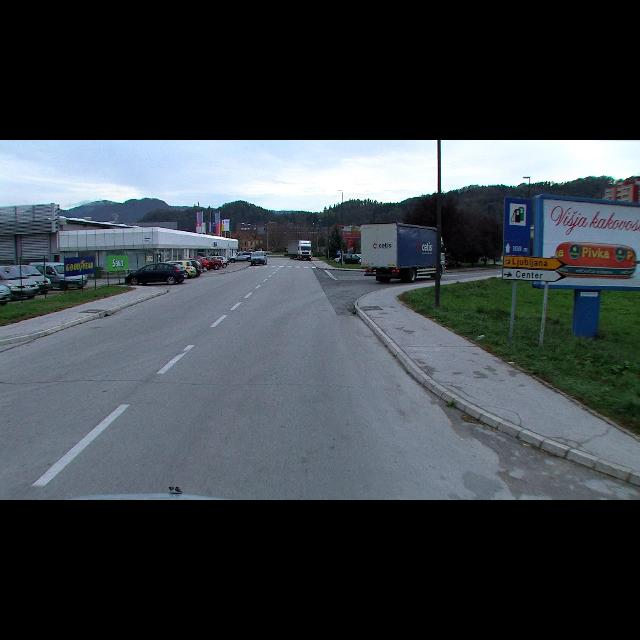Multi-inform: (502, 255, 568, 282)
Squared: (504, 196, 532, 254)
